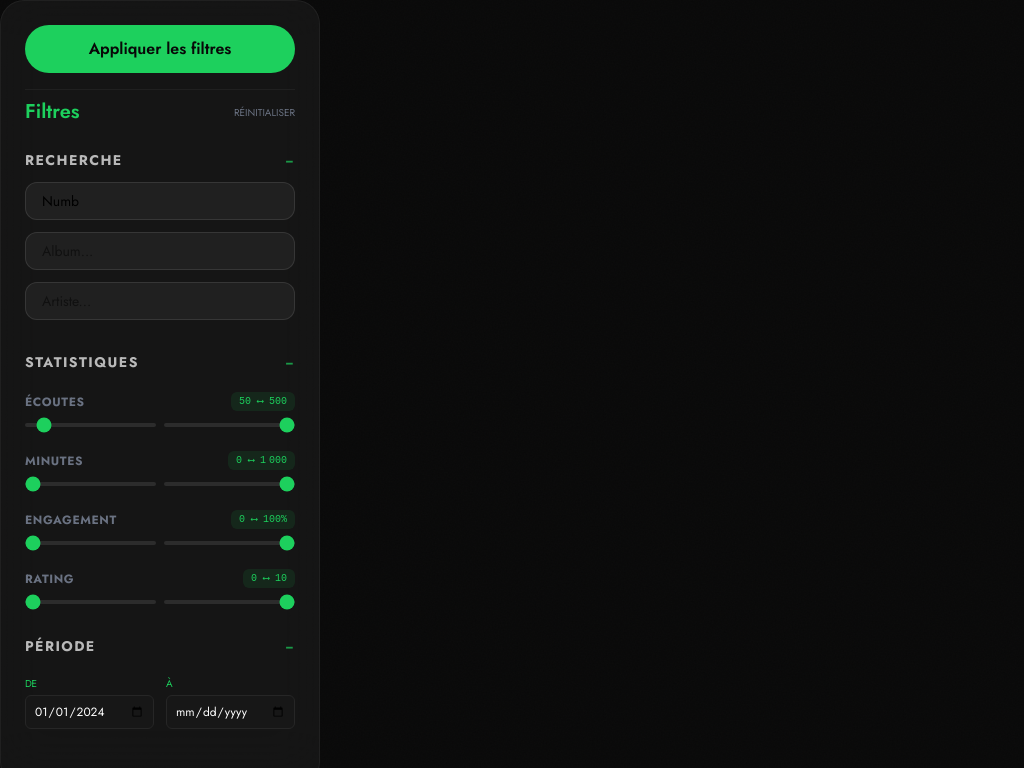
SidebarFilters – réinitialisation › vide tous les champs et renvoie vers le chemin sans paramètres
The width and height of the screenshot is (1024, 768).
Expected: the field with placeholder "Titre..." holds "Numb", [25,182,295,220]
What coordinates should you click on to do the following:
click the button "Réinitialiser"
I would click on:
 (264, 112)
Its box is [234,104,295,120].
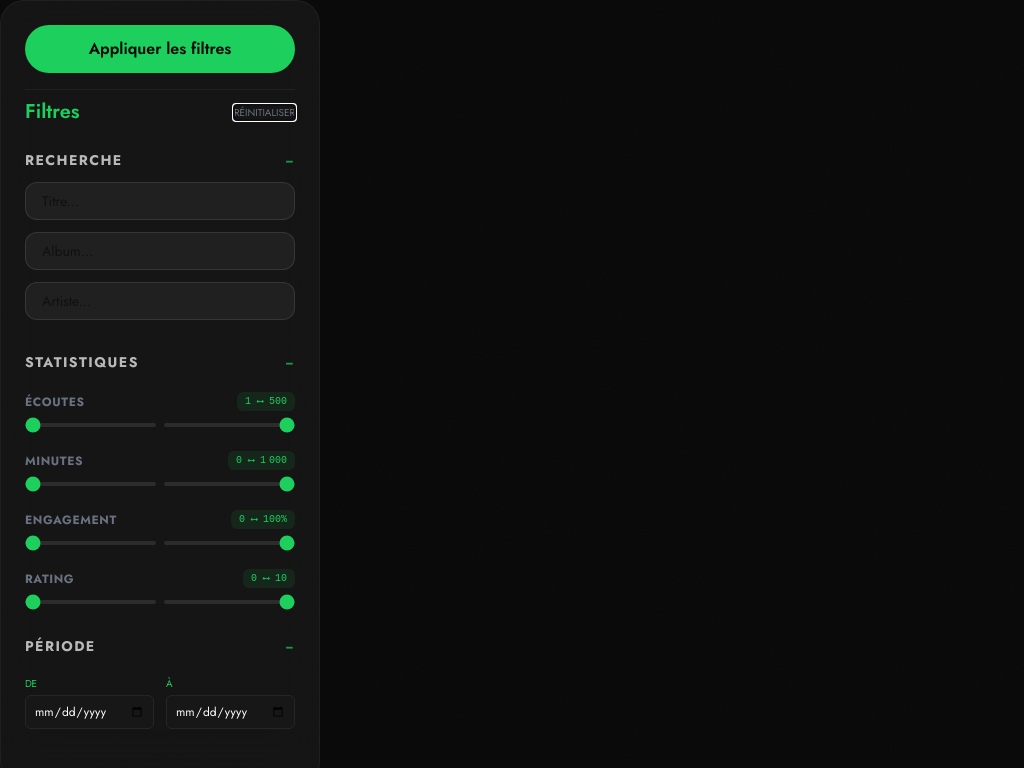
Expected: the field with placeholder "Titre..." is empty, [25,182,295,220]
Expected: the 1st date field is empty, [25,695,154,729]
Expected: the 1st slider holds "1", [25,423,156,427]
